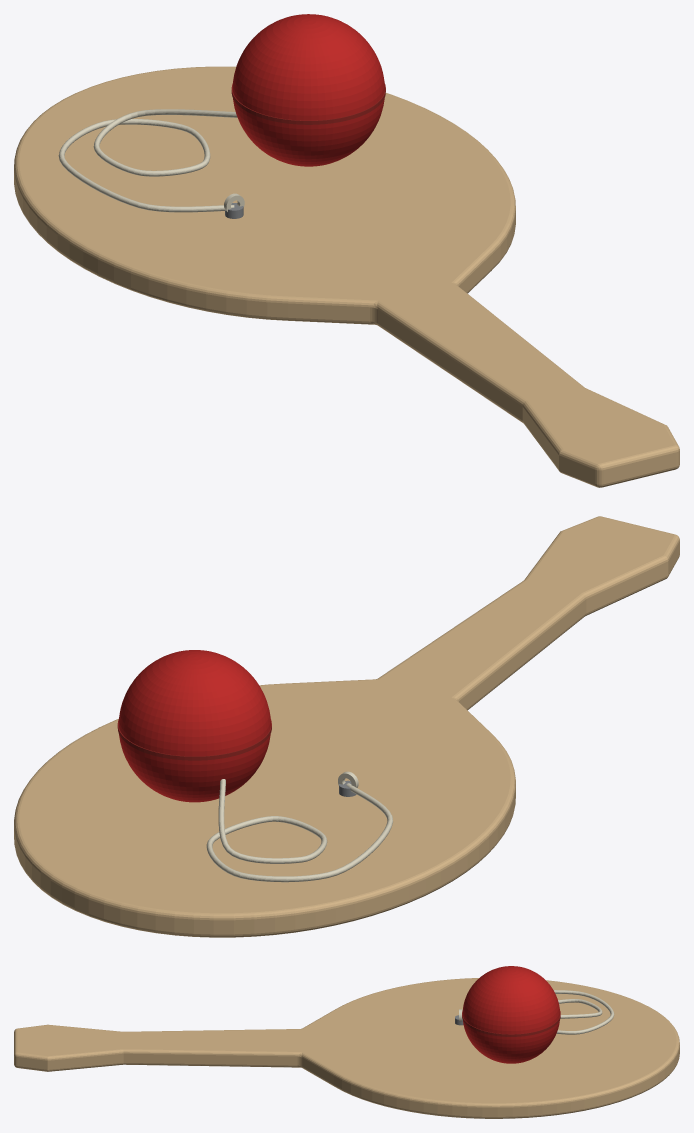
The model's file is full.glb.
The picture shows the model from 3 angles, top to bottom: view 1: azimuth 30°, elevation 25°; view 2: azimuth 150°, elevation 25°; view 3: azimuth 270°, elevation 25°; orthographic projection. The views are drawn at different scales.
Visible parts, largest first — view 1: One piece oval paddle and waisted handle, Rubber ball, Continuous slack elastic, Equatorial molded seam; view 2: One piece oval paddle and waisted handle, Rubber ball, Continuous slack elastic, Equatorial molded seam; view 3: One piece oval paddle and waisted handle, Rubber ball, Continuous slack elastic, Equatorial molded seam.
Boxes of the visible parts, x1,y1,x2,y2 form: One piece oval paddle and waisted handle: (14, 66, 679, 487); Rubber ball: (232, 14, 384, 166); Continuous slack elastic: (58, 109, 237, 212); Equatorial molded seam: (231, 83, 385, 124); One piece oval paddle and waisted handle: (14, 516, 679, 937); Rubber ball: (118, 650, 270, 802); Continuous slack elastic: (206, 779, 393, 882); Equatorial molded seam: (117, 719, 271, 760); One piece oval paddle and waisted handle: (14, 978, 679, 1118); Rubber ball: (462, 966, 560, 1063); Continuous slack elastic: (553, 990, 614, 1034); Equatorial molded seam: (462, 1011, 560, 1036).
Bounding box in the file's own units: 0.18 × 0.0675 × 0.395.
